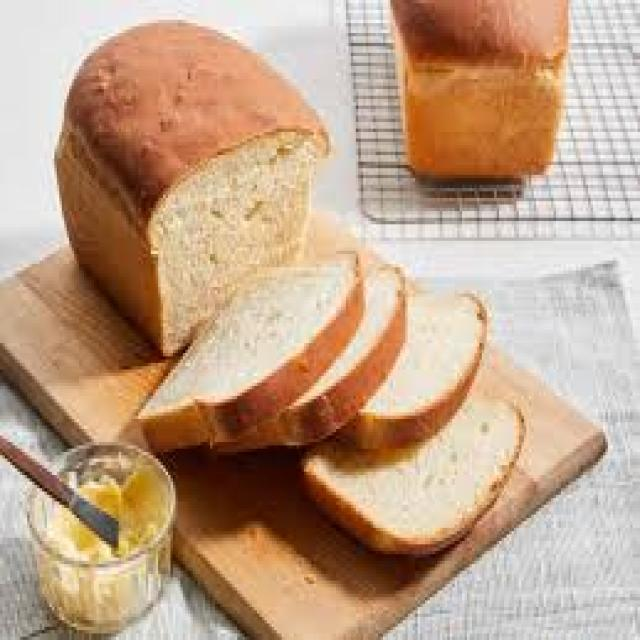Bread: (55, 22, 329, 355), (139, 258, 361, 451), (214, 267, 405, 451), (304, 396, 524, 555), (339, 297, 487, 448)
